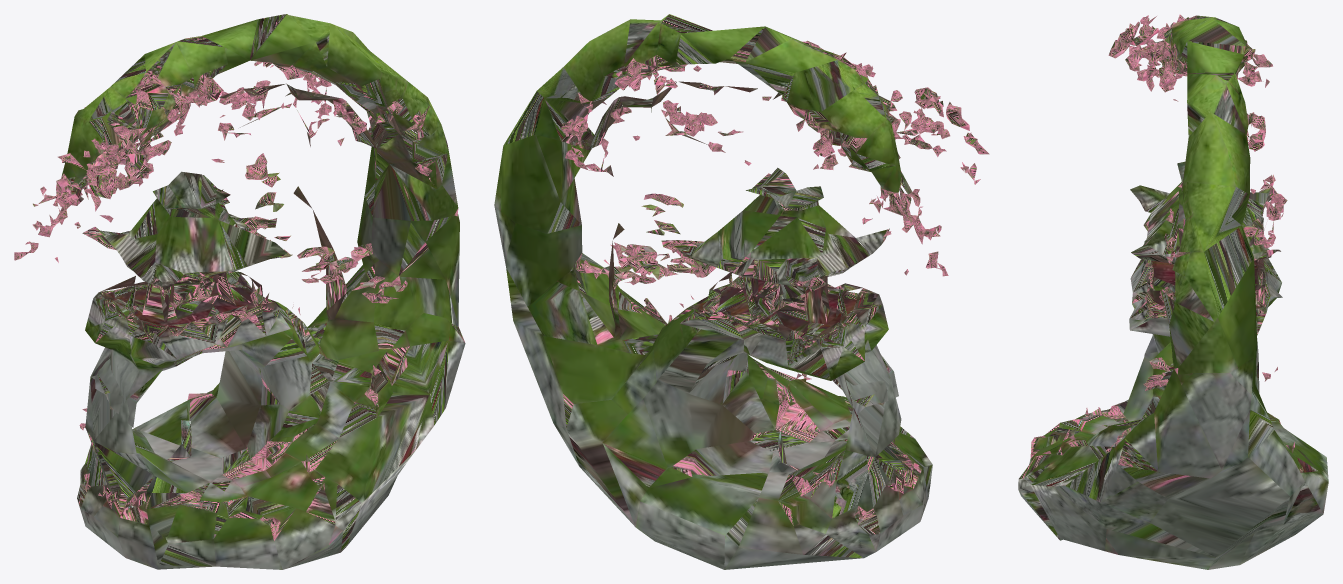
File: bq_moongate.far.glb
3 views of the same model, side by side, from view 1: azimuth 30°, elevation 25°; view 2: azimuth 150°, elevation 25°; view 3: azimuth 270°, elevation 25° (orthographic). The views are drawn at different scales.
Bounding box in the file's own units: 1.78 × 1.87 × 1.09.
1 material, 1 textured.
